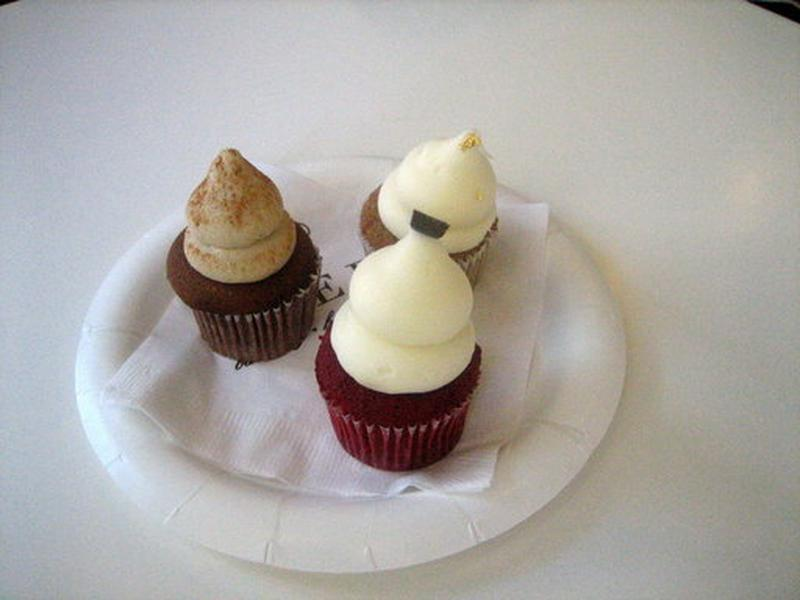cup_cake: (145, 85, 528, 528)
